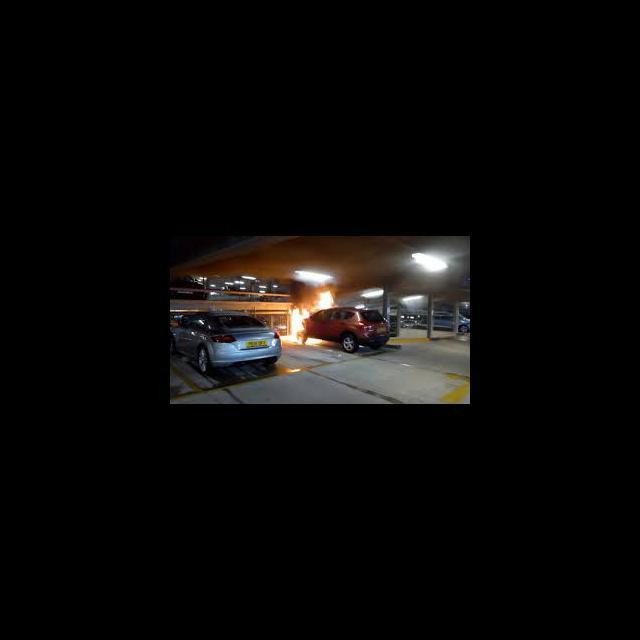Fire: (282, 289, 341, 345)
